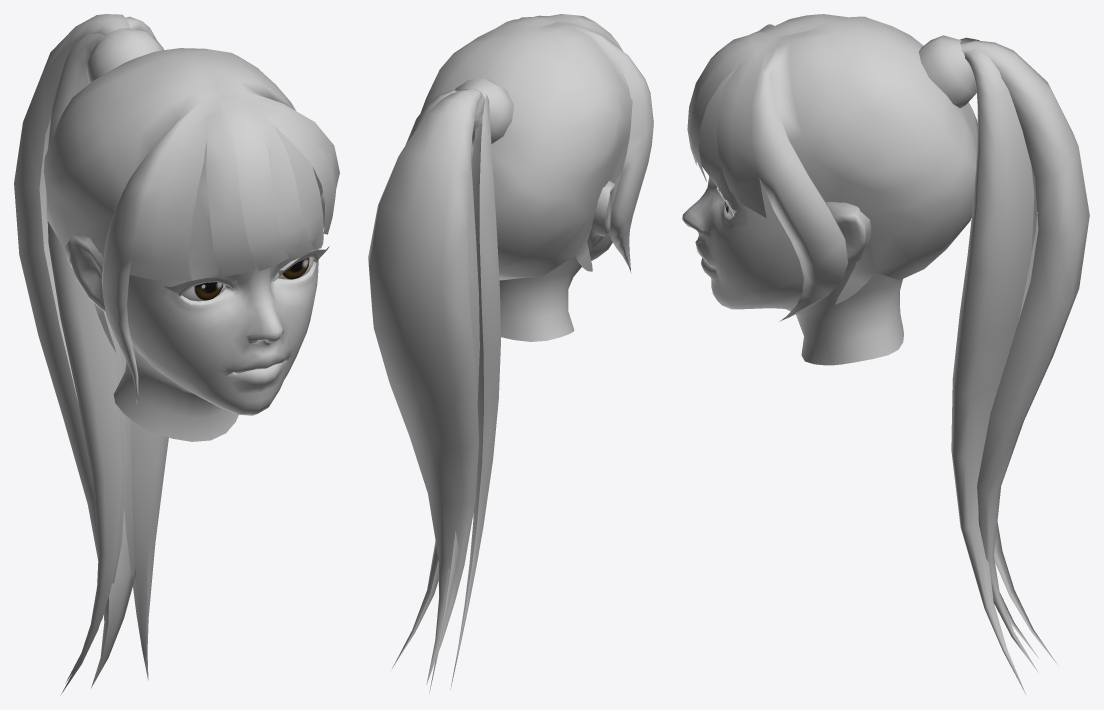
3 renders of one model, left to right at view 1: azimuth 30°, elevation 25°; view 2: azimuth 150°, elevation 25°; view 3: azimuth 270°, elevation 25°, orthographic. The views are drawn at different scales.
Parts seen in each view (by area): view 1: Hairstyle3, NEWOutfit1.001, Eyes; view 2: Hairstyle3, NEWOutfit1.001; view 3: Hairstyle3, NEWOutfit1.001.
Part boxes in pixels (bbox=[...]): Hairstyle3: bbox=[14, 14, 339, 695]; NEWOutfit1.001: bbox=[65, 214, 328, 441]; Eyes: bbox=[182, 257, 313, 301]; Hairstyle3: bbox=[368, 14, 653, 691]; NEWOutfit1.001: bbox=[499, 171, 622, 341]; Hairstyle3: bbox=[687, 14, 1089, 694]; NEWOutfit1.001: bbox=[682, 176, 903, 365].
Bounding box in the file's own units: 15.24 × 45.34 × 26.14.
